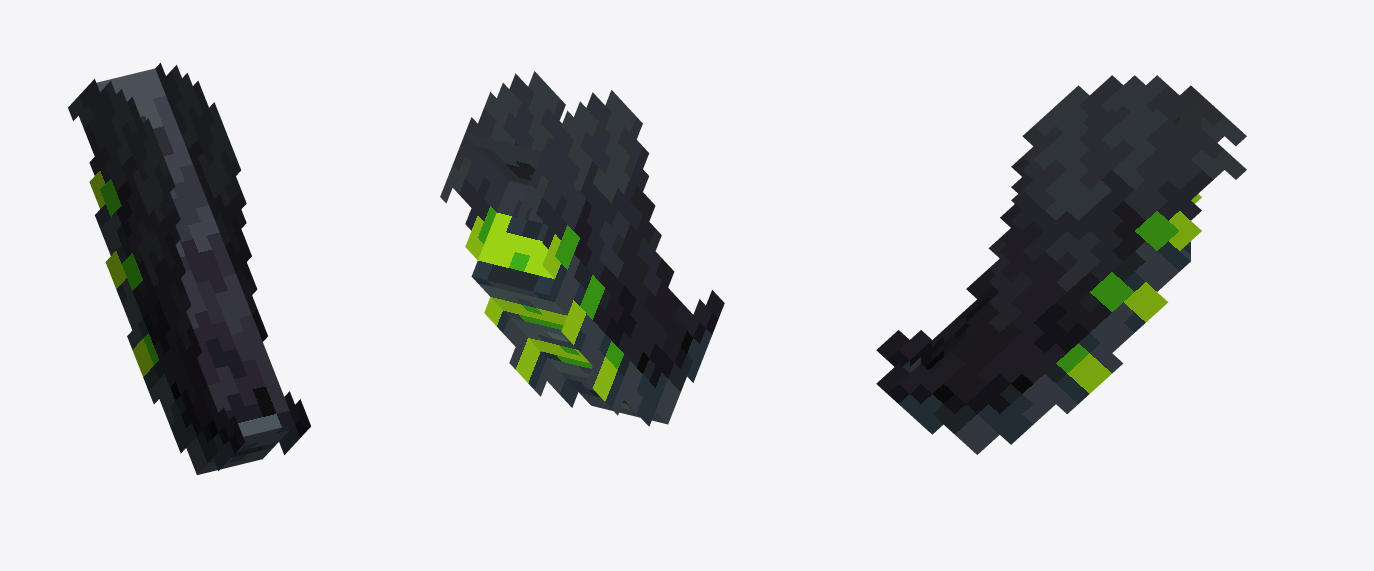
File: sl_protogen_tail.glb
3 renders of one model, left to right at view 1: azimuth 30°, elevation 25°; view 2: azimuth 150°, elevation 25°; view 3: azimuth 270°, elevation 25°, orthographic. The views are drawn at different scales.
Parts seen in each view (by area): view 1: bb_protogen_tail; view 2: bb_protogen_tail; view 3: bb_protogen_tail.
Boxes of the visible parts, x1,y1,x2,y2 form: bb_protogen_tail: [68, 63, 310, 474]; bb_protogen_tail: [440, 71, 724, 426]; bb_protogen_tail: [876, 75, 1246, 454].
Bounding box in the file's own units: 0.6875 × 2.21 × 2.21.
Materials: 1 (1 with a texture image).
